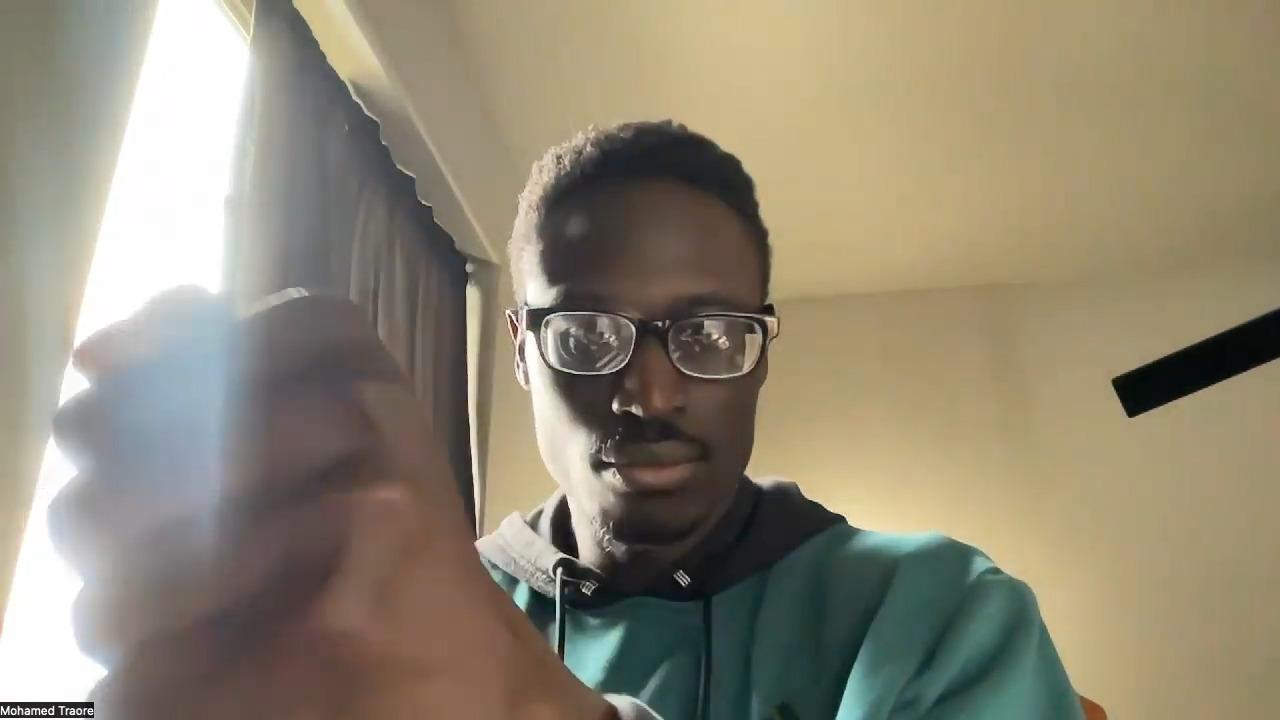Rock: (43, 282, 516, 720)
